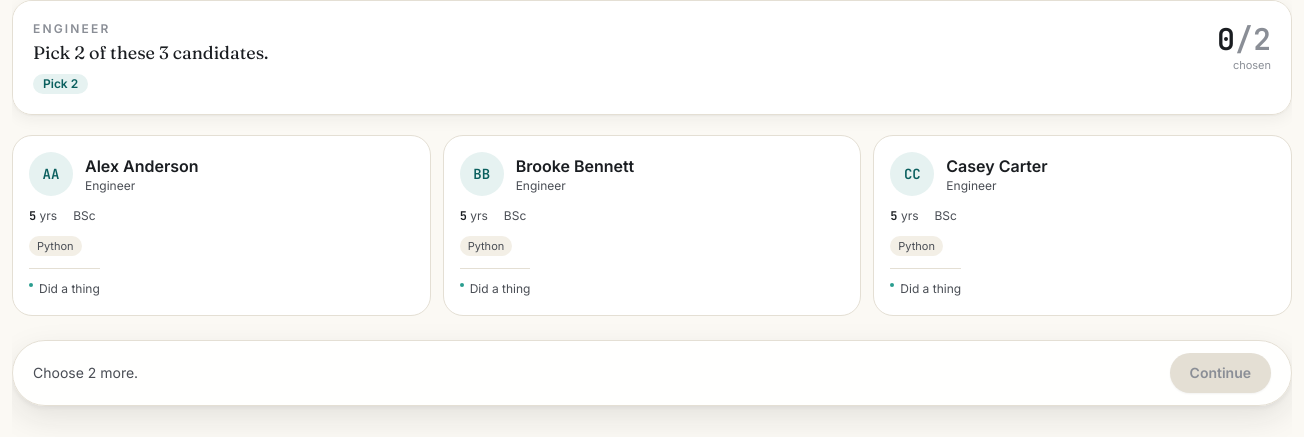
Test: InboxTriage › disables Continue until the required number of candidates are picked
Expected: the button "Continue" is disabled, x1=1170 y1=353 x2=1271 y2=393
Click the text "Alex Anderson". click: {"x": 142, "y": 166}
box: x1=85 y1=154 x2=199 y2=178
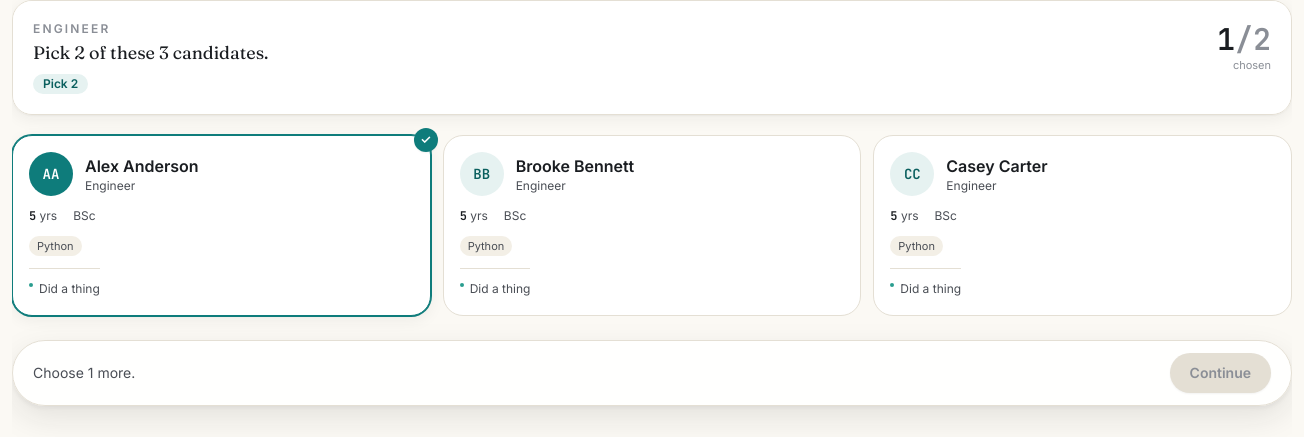
Expected: the button "Continue" is disabled, x1=1170 y1=353 x2=1271 y2=393
Click the text "Brooke Bennett". click: {"x": 575, "y": 166}
box: x1=516 y1=154 x2=634 y2=178
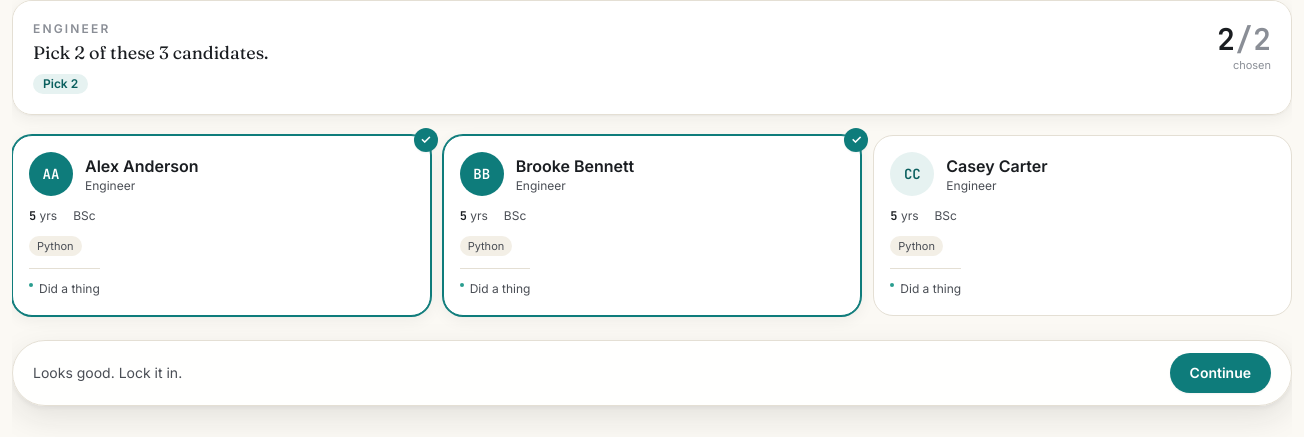
Expected: the button "Continue" is enabled, x1=1170 y1=353 x2=1271 y2=393
